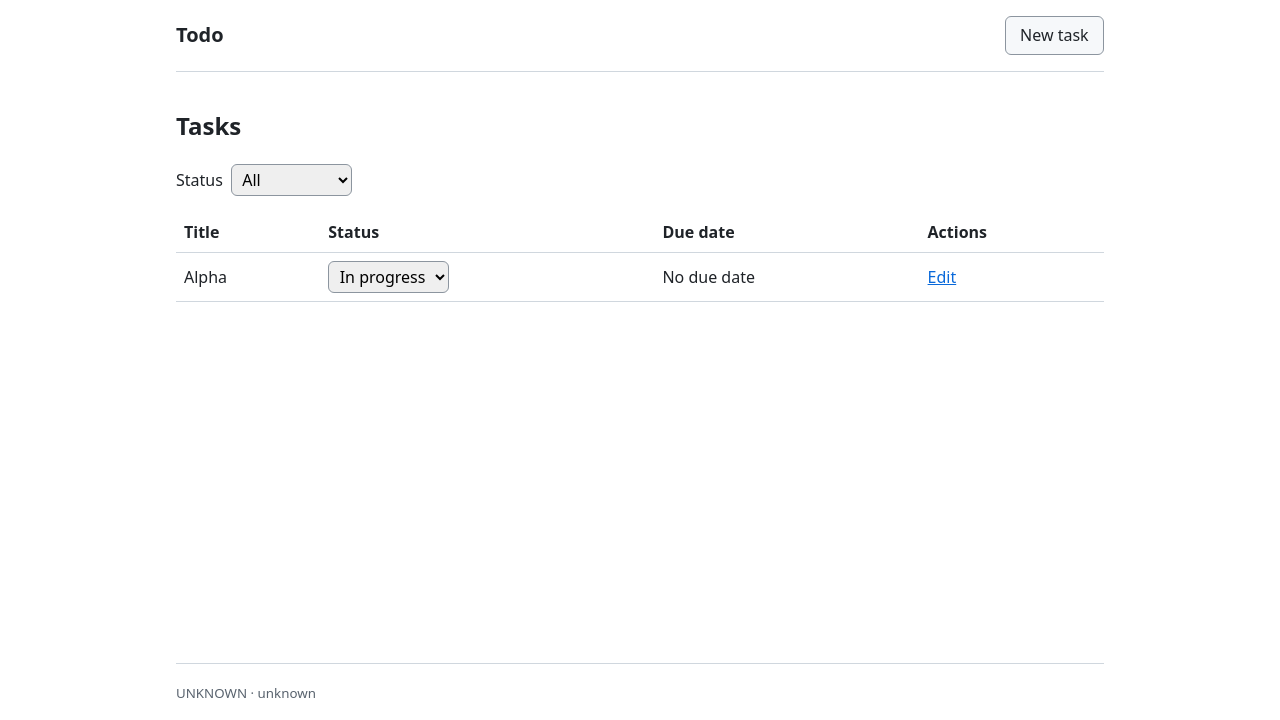
Test case: SCRUM-6 task list status › SCRUM-6-AC-11: a network error reverts the row and announces a connection problem
Select "Done" in the dropdown named "Status for Alpha" at (389, 277), box [328,261,449,293]
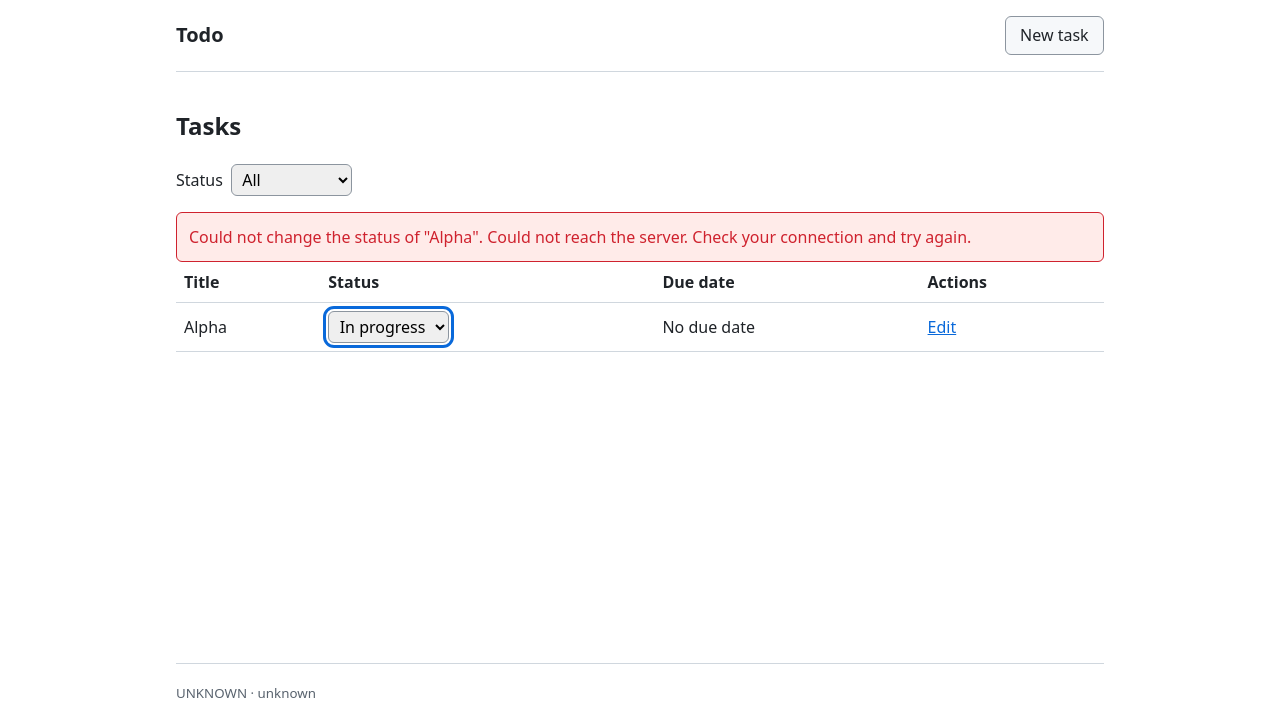
Expected: the message shows "Could not change the status of \"Alpha\". Could not reach the server.", [189,226,971,248]
